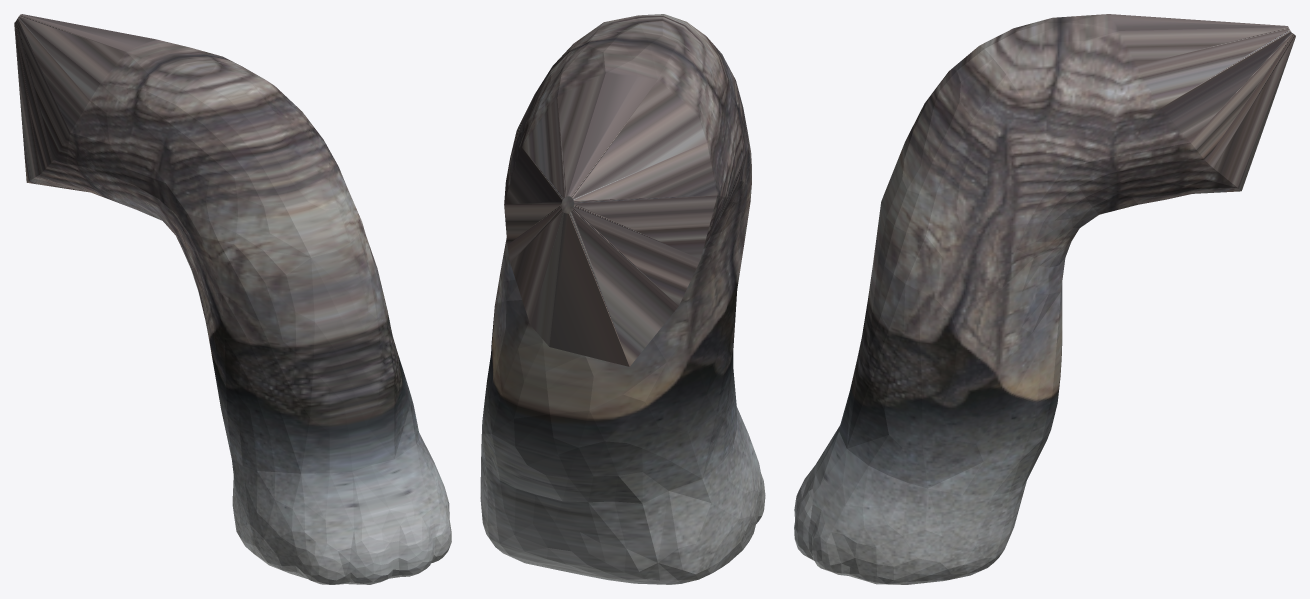
The model's file is Tortoise_RightFrontleg_new1.dae.
3 renders of one model, left to right at view 1: azimuth 30°, elevation 25°; view 2: azimuth 150°, elevation 25°; view 3: azimuth 270°, elevation 25°, orthographic. The views are drawn at different scales.
Parts seen in each view (by area): view 1: tortoise_001; view 2: tortoise_001; view 3: tortoise_001.
Part boxes in pixels (left/top/right/bottom): tortoise_001: left=14, top=14, right=451, bottom=584; tortoise_001: left=480, top=14, right=765, bottom=584; tortoise_001: left=794, top=14, right=1295, bottom=584.
Bounding box in the file's own units: 4.46 × 7.07 × 7.49.
1 material, 1 textured.
